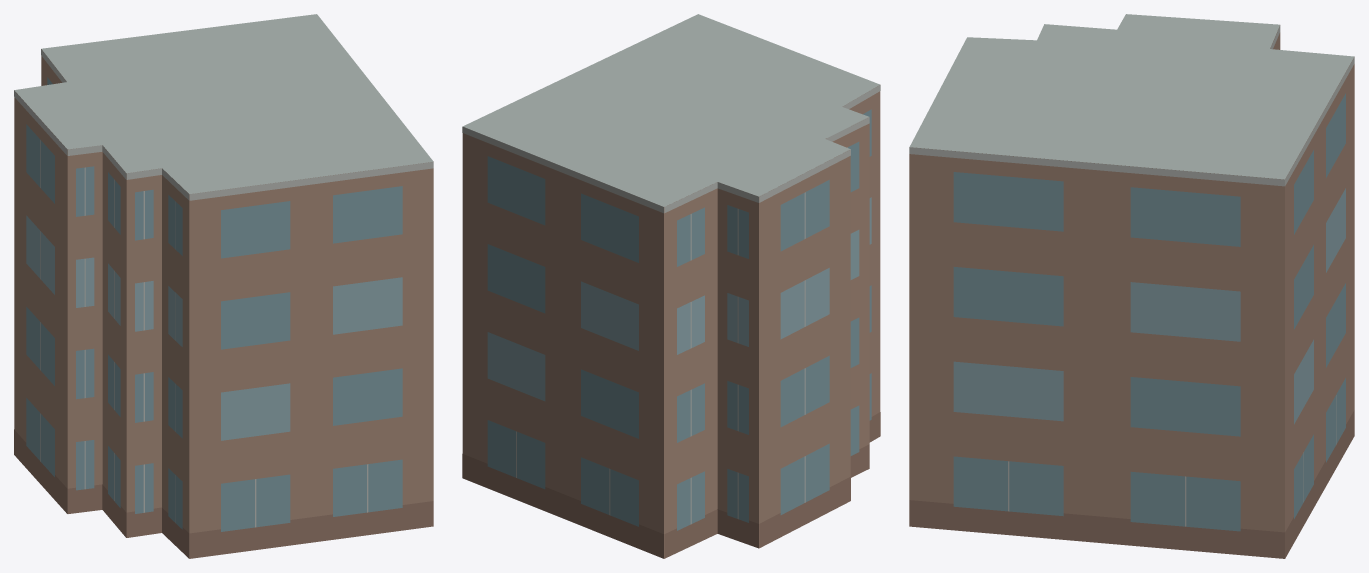
Rendered from survey-upis-32806113.glb.
The picture shows the model from 3 angles, left to right: view 1: azimuth 30°, elevation 25°; view 2: azimuth 150°, elevation 25°; view 3: azimuth 270°, elevation 25°; orthographic projection. The views are drawn at different scales.
Visible parts, largest first — view 1: survey-upis-32806113.tmp; view 2: survey-upis-32806113.tmp; view 3: survey-upis-32806113.tmp.
Part boxes in pixels (left/top/right/bottom): survey-upis-32806113.tmp: left=14, top=14, right=433, bottom=558; survey-upis-32806113.tmp: left=462, top=14, right=880, bottom=558; survey-upis-32806113.tmp: left=909, top=14, right=1354, bottom=558.
Size of the model in its own units: 12.55 by 13.4 by 14.26.
